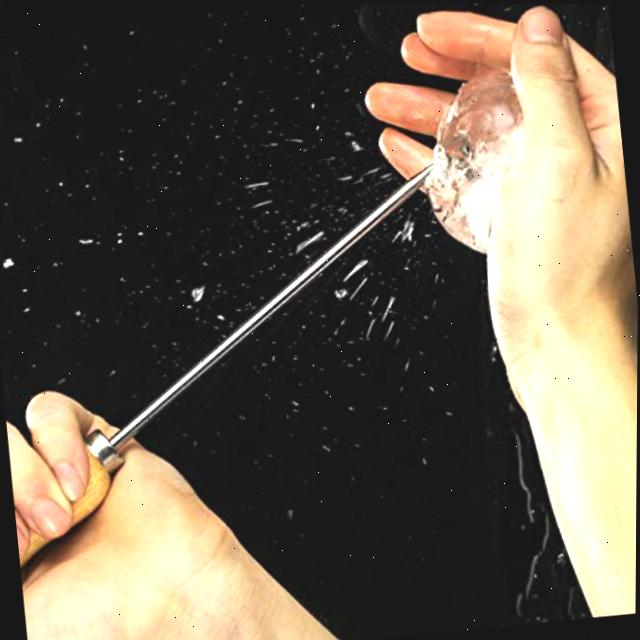ice pick: (0, 158, 472, 573)
